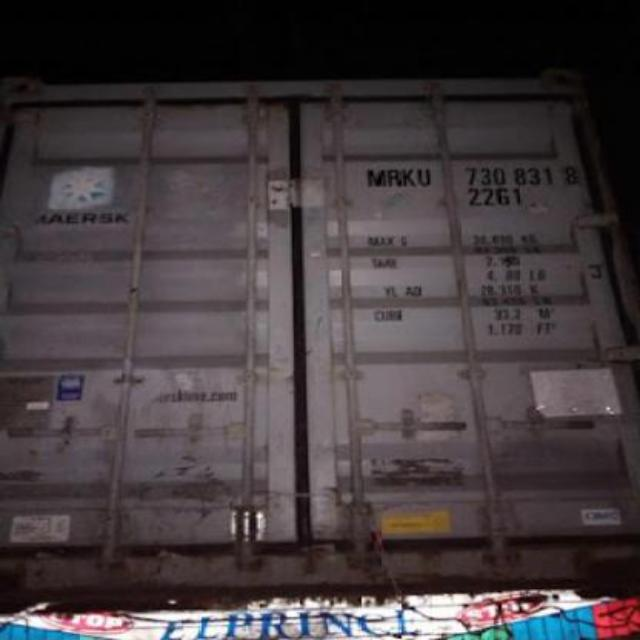0: (492, 160, 508, 188)
1: (540, 160, 556, 190)
3: (526, 158, 540, 188), (478, 162, 492, 188)
7: (460, 159, 478, 189)
8: (560, 159, 586, 191), (512, 158, 526, 186)
K: (398, 162, 416, 192)
M: (362, 164, 386, 192)
R: (384, 156, 400, 194)
U: (416, 162, 436, 194)
